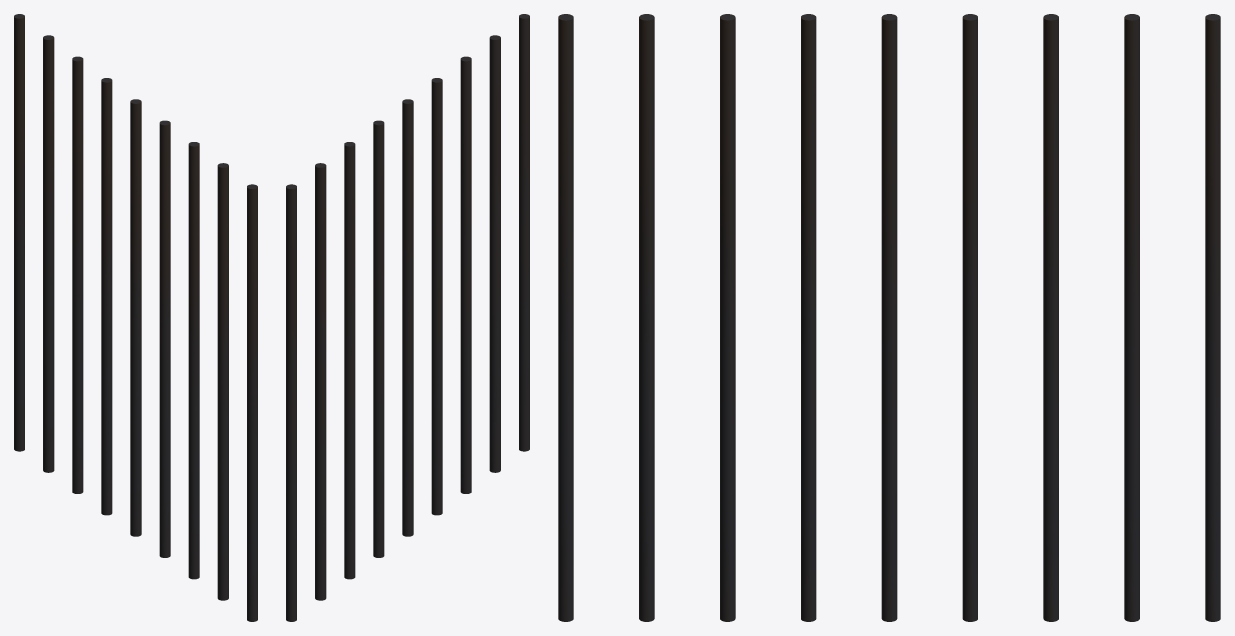
Rendered from rustycage_bars.obj.
3 views of the same model, side by side, from view 1: azimuth 30°, elevation 25°; view 2: azimuth 150°, elevation 25°; view 3: azimuth 270°, elevation 25° (orthographic). The views are drawn at different scales.
Parts seen in each view (by area): view 1: polySurface42; view 2: polySurface42; view 3: polySurface42.
Boxes of the visible parts, <box> form: polySurface42: <box>14,14,257,621</box>; polySurface42: <box>286,14,529,621</box>; polySurface42: <box>558,14,1220,621</box>.
Bounding box in the file's own units: 0.096 × 4.1 × 4.1.
Materials: 1 (1 with a texture image).
